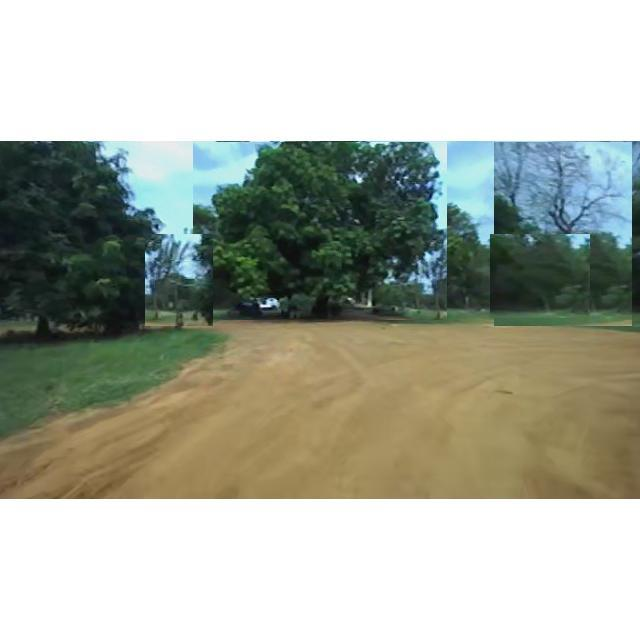direk: (193, 142, 447, 320), (0, 143, 158, 341), (494, 142, 632, 326), (490, 234, 590, 318), (410, 198, 482, 314), (145, 234, 213, 326)
